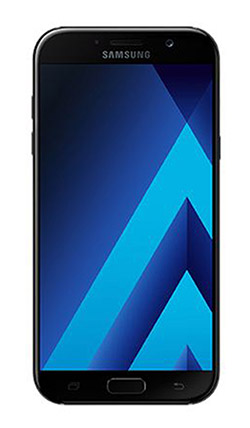Handphone: (27, 21, 224, 409)
